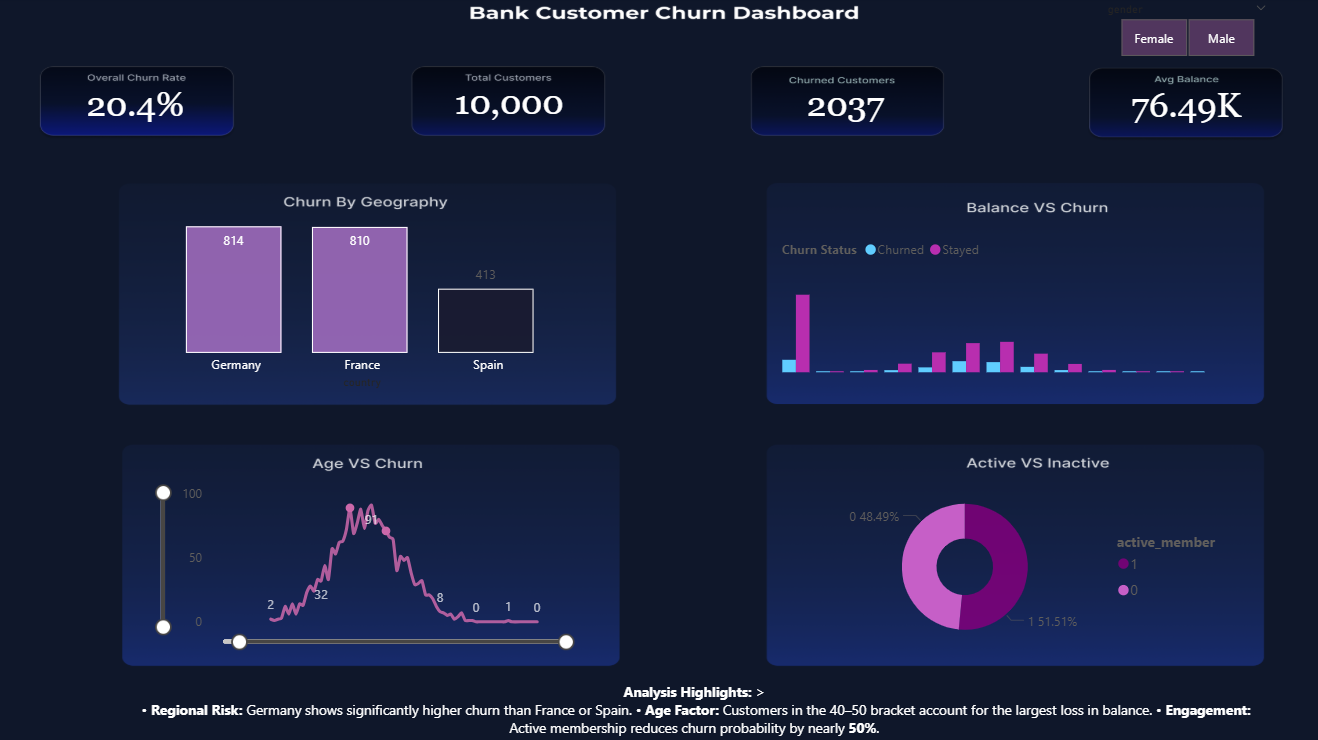

The page's visual inventory and layout, read from the dashboard file:
{"tool":"powerbi","page":{"name":"Page 1","canvas":[1280,720],"ordinal":0},"visuals":[{"type":"card","fields":{"Values":["Count(Bank Customer Churn Prediction.customer_id)"]},"box":[400.5,68.8,185.8,63.9],"z":0},{"type":"card","fields":{"Values":["Bank Customer Churn Prediction.Churn dRate"]},"box":[9.7,42.2,246.1,119.4],"z":1000},{"type":"card","fields":{"Values":["Sum(Bank Customer Churn Prediction.churn)"]},"box":[714.2,25.3,207.5,153.2],"z":2000},{"type":"card","fields":{"Values":["Avg(Bank Customer Churn Prediction.balance)"]},"box":[1042.4,26.5,208.7,153.2],"z":3000},{"type":"columnChart","fields":{"Category":["Bank Customer Churn Prediction.country"],"Y":["Sum(Bank Customer Churn Prediction.churn)"]},"box":[128,208,448,176],"z":4000},{"type":"clusteredColumnChart","fields":{"Category":["Bank Customer Churn Prediction.balance (bins)"],"Y":["CountNonNull(Bank Customer Churn Prediction.customer_id)"],"Series":["Bank Customer Churn Prediction.Churn Status"]},"box":[752,224,448,144],"z":4001},{"type":"lineChart","fields":{"Category":["Bank Customer Churn Prediction.age"],"Y":["Sum(Bank Customer Churn Prediction.churn)"]},"box":[148.4,465.7,415,167.7],"z":4002},{"type":"donutChart","fields":{"Category":["Bank Customer Churn Prediction.active_member"],"Y":["CountNonNull(Bank Customer Churn Prediction.customer_id)"]},"box":[781.8,465.7,415,168.9],"z":4003},{"type":"slicer","fields":{"Values":["Bank Customer Churn Prediction.gender"]},"box":[1058,0,178.6,63.9],"z":4004},{"type":"textbox","box":[121.9,656.3,1100.3,63.9],"z":4005}]}

Visuals, with their boxes in screenshot pixels (x1, y1, x2, y2), scaled from the page's 1280x720 canvas onto the 1318x740 screenshot:
card - Count(Bank Customer Churn Prediction.customer_id): box=[412, 71, 604, 136]
card - Bank Customer Churn Prediction.Churn dRate: box=[10, 43, 263, 166]
card - Sum(Bank Customer Churn Prediction.churn): box=[735, 26, 949, 183]
card - Avg(Bank Customer Churn Prediction.balance): box=[1073, 27, 1288, 185]
columnChart - Bank Customer Churn Prediction.country x Sum(Bank Customer Churn Prediction.churn): box=[132, 214, 593, 395]
clusteredColumnChart - Bank Customer Churn Prediction.balance (bins) x CountNonNull(Bank Customer Churn Prediction.customer_id): box=[774, 230, 1236, 378]
lineChart - Bank Customer Churn Prediction.age x Sum(Bank Customer Churn Prediction.churn): box=[153, 479, 580, 651]
donutChart - Bank Customer Churn Prediction.active_member x CountNonNull(Bank Customer Churn Prediction.customer_id): box=[805, 479, 1232, 652]
slicer - Bank Customer Churn Prediction.gender: box=[1089, 0, 1273, 66]
textbox: box=[126, 675, 1258, 739]
